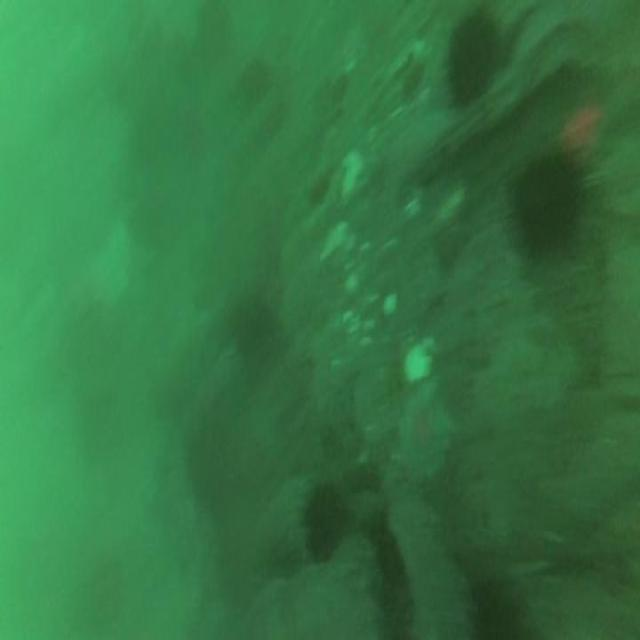echinus: (511, 152, 580, 253), (449, 16, 501, 98), (302, 490, 344, 555), (232, 297, 273, 362), (472, 588, 514, 640)
